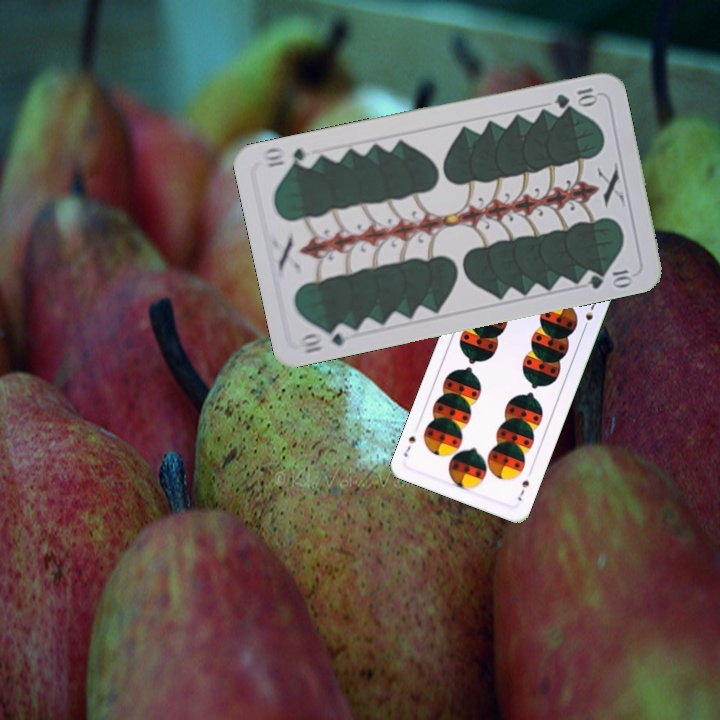G10: (295, 320, 354, 356), (551, 83, 600, 111)
S7: (514, 476, 532, 504)
